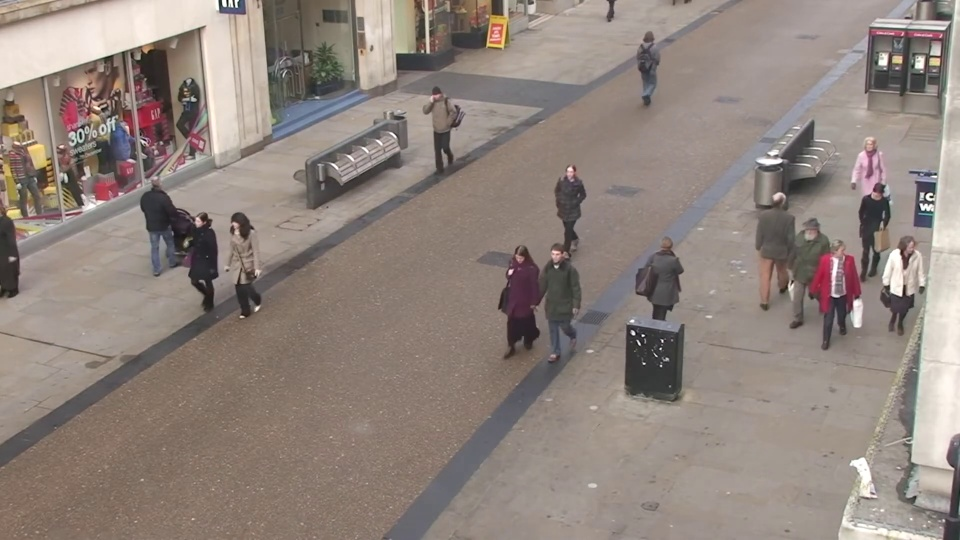pedestrian: (874, 234, 928, 363), (806, 235, 854, 363), (176, 211, 224, 330), (492, 246, 535, 377), (780, 216, 825, 339), (213, 212, 259, 331), (847, 184, 894, 299), (532, 242, 573, 372), (647, 227, 689, 353), (146, 168, 191, 275), (761, 184, 802, 298), (845, 137, 888, 240), (550, 160, 584, 269), (418, 86, 449, 173), (640, 27, 664, 98)
